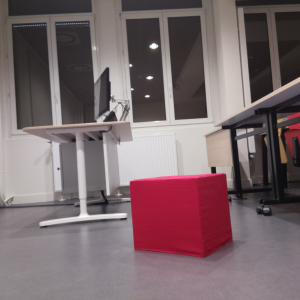medium: (126, 170, 236, 263)
